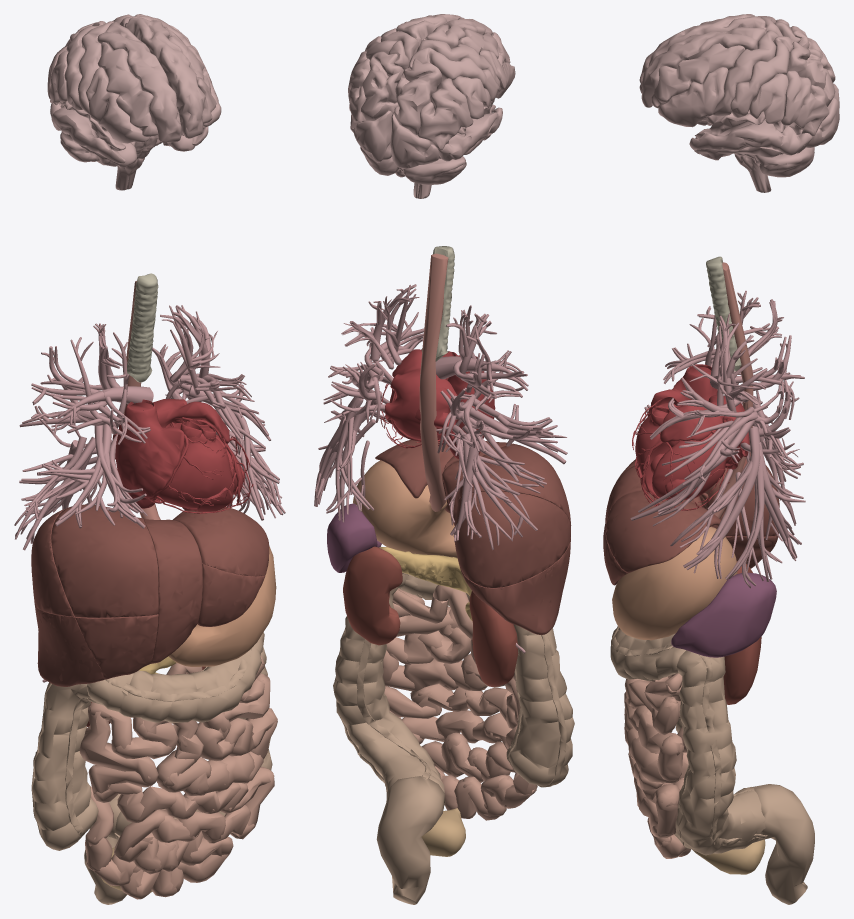
File: organs.glb
3 renders of one model, left to right at view 1: azimuth 30°, elevation 25°; view 2: azimuth 150°, elevation 25°; view 3: azimuth 270°, elevation 25°, orthographic. The views are drawn at different scales.
Visible parts, largest first — view 1: liver, small-intestine, brain, large-intestine, right-lung, heart, left-lung, stomach, trachea, esophagus; view 2: large-intestine, brain, small-intestine, liver, right-lung, left-lung, stomach, left-kidney, esophagus, heart, right-kidney, spleen (+3 smaller); view 3: brain, large-intestine, left-lung, liver, small-intestine, stomach, heart, spleen, right-lung, left-kidney, esophagus, urinary-bladder (+1 smaller).
Part boxes in pixels (<box>): liver: <box>31,504,269,686</box>; small-intestine: <box>79,655,277,899</box>; brain: <box>47,14,221,190</box>; large-intestine: <box>31,632,272,904</box>; right-lung: <box>14,323,153,682</box>; heart: <box>112,398,253,513</box>; left-lung: <box>152,305,285,520</box>; stomach: <box>168,546,276,666</box>; trachea: <box>127,273,158,382</box>; esophagus: <box>124,281,160,519</box>; large-intestine: <box>333,572,574,904</box>; brain: <box>348,14,515,198</box>; small-intestine: <box>382,585,537,820</box>; liver: <box>375,440,571,634</box>; right-lung: <box>435,305,567,653</box>; left-lung: <box>314,284,424,522</box>; stomach: <box>353,460,457,557</box>; left-kidney: <box>343,546,402,645</box>; esophagus: <box>419,253,448,511</box>; heart: <box>380,349,495,458</box>; right-kidney: <box>469,591,518,686</box>; spleen: <box>327,503,381,572</box>; brain: <box>639,14,839,192</box>; large-intestine: <box>610,626,814,904</box>; left-lung: <box>630,313,805,588</box>; liver: <box>603,452,779,585</box>; small-intestine: <box>624,673,690,858</box>; stomach: <box>612,527,737,640</box>; heart: <box>632,364,749,510</box>; spleen: <box>671,572,776,657</box>; right-lung: <box>635,290,804,500</box>; left-kidney: <box>723,636,761,704</box>; esophagus: <box>711,262,753,526</box>; urinary-bladder: <box>693,839,765,874</box>.
Size of the model in its own units: 0.8205 by 2.84 by 0.6927.
